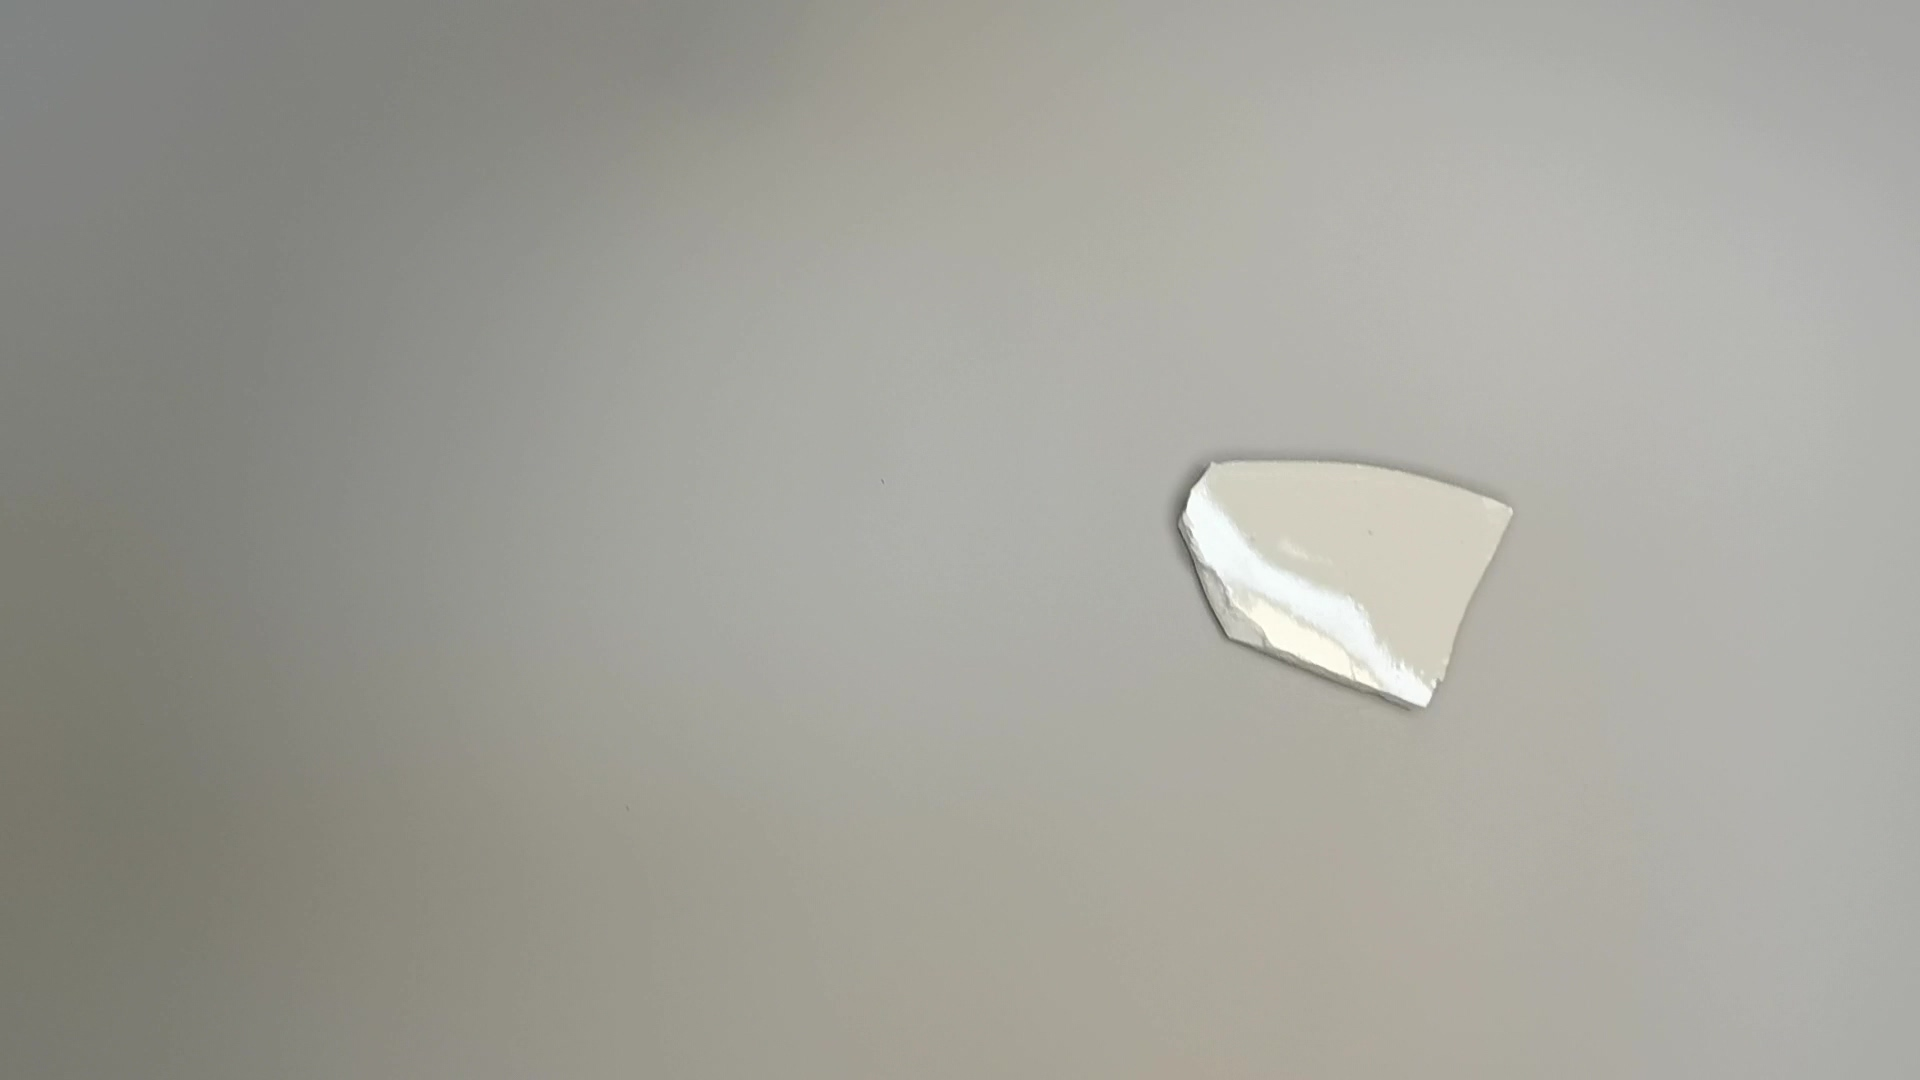ceramic: (1174, 454, 1528, 727)
